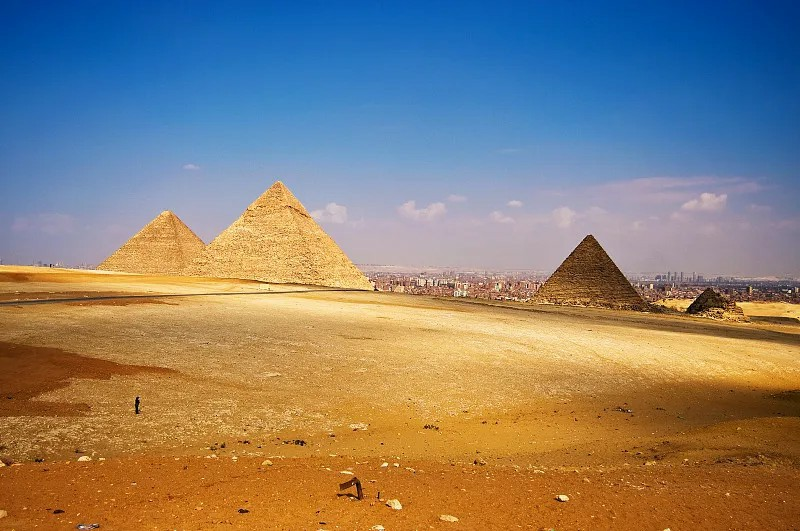Pyramid: (180, 181, 373, 289), (528, 236, 650, 309), (95, 210, 208, 276)
